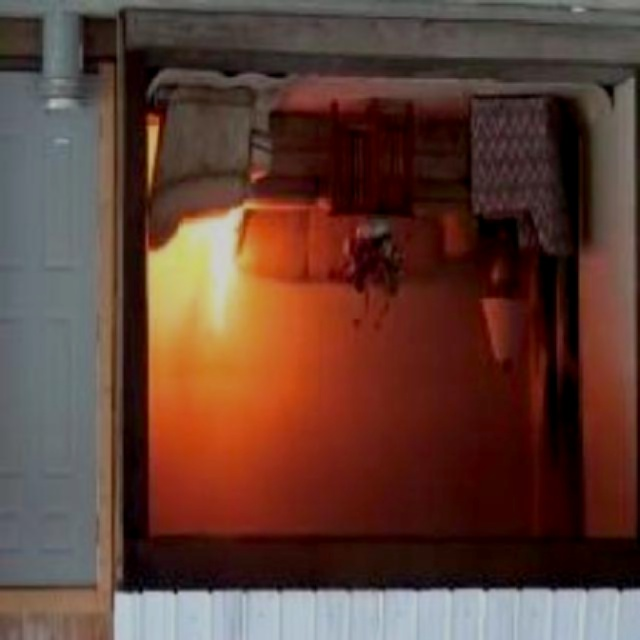fire: (166, 205, 263, 351)
